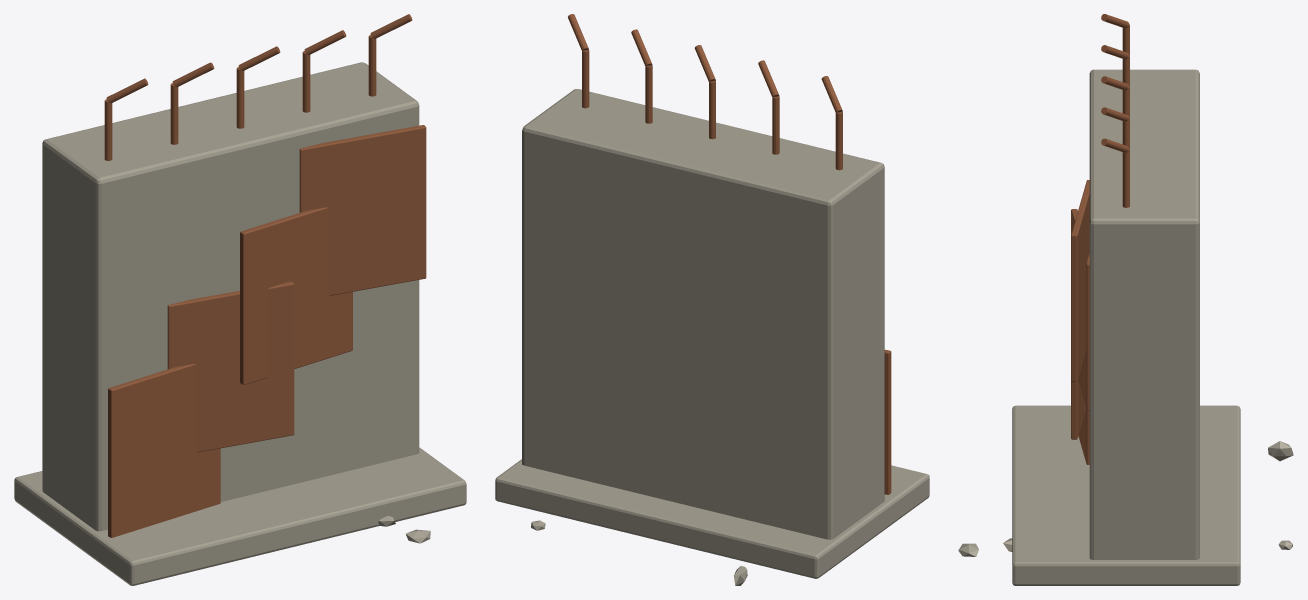
The model's file is Wall_Rebar_Seawall.glb.
The picture shows the model from 3 angles, left to right: view 1: azimuth 30°, elevation 25°; view 2: azimuth 150°, elevation 25°; view 3: azimuth 270°, elevation 25°; orthographic projection. The views are drawn at different scales.
Visible parts, largest first — view 1: Structure; view 2: Structure; view 3: Structure.
Boxes of the visible parts, x1,y1,x2,y2 form: Structure: [14, 14, 466, 585]; Structure: [495, 14, 929, 585]; Structure: [958, 14, 1293, 585].
Bounding box in the file's own units: 5.1 × 6.72 × 4.56.
